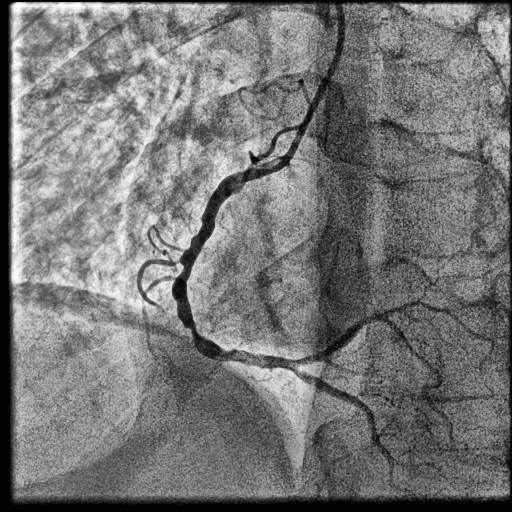pborca: (298, 301, 495, 370)
pda: (295, 370, 398, 488)
rca: (172, 155, 300, 373)
